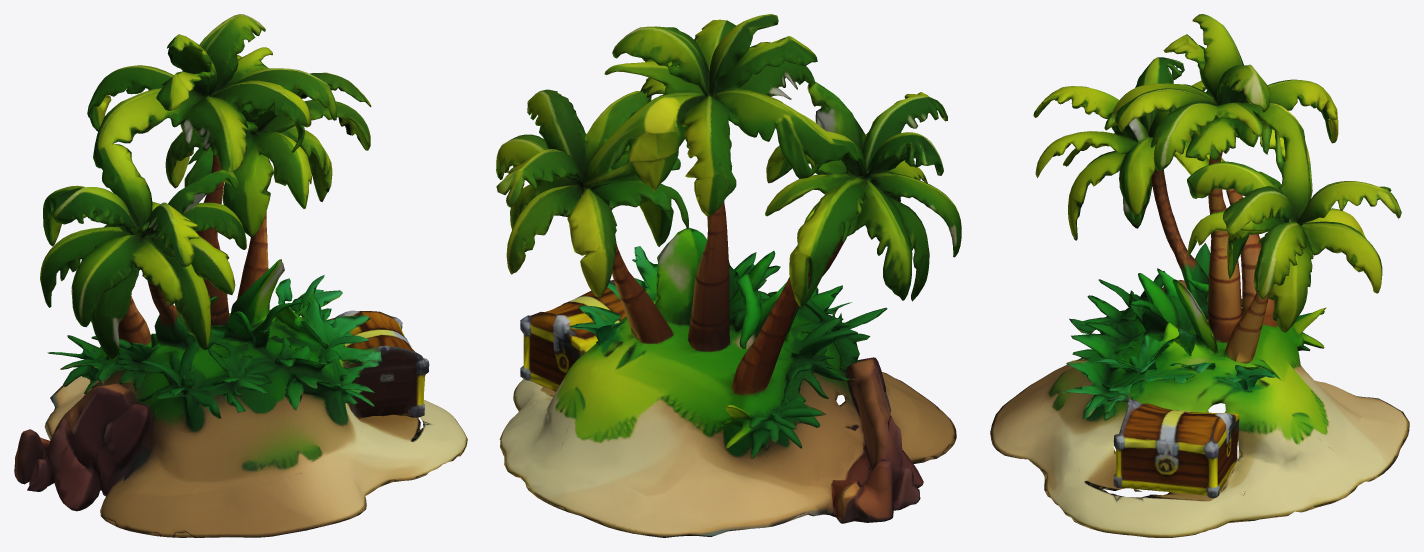
The model's file is island.glb.
3 renders of one model, left to right at view 1: azimuth 30°, elevation 25°; view 2: azimuth 150°, elevation 25°; view 3: azimuth 270°, elevation 25°, orthographic. The views are drawn at different scales.
Size of the model in its own units: 0.9746 by 0.9998 by 0.9251.
1 material, 1 textured.
